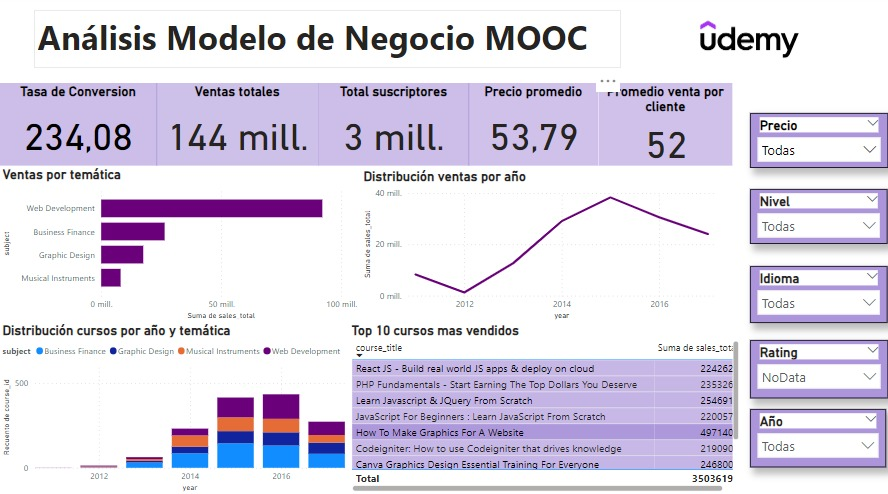

The page's visual inventory and layout, read from the dashboard file:
{"tool":"powerbi","page":{"name":"Analisis","canvas":[1280,720],"ordinal":1},"visuals":[{"type":"lineChart","title":"Distribución ventas por año","fields":{"Category":["udemy.year"],"Y":["Sum(udemy.sales_total)"]},"box":[520.5,248.8,518.9,222.6],"z":0},{"type":"slicer","fields":{"Values":["udemy.price"]},"box":[1081.4,169.9,198.7,79.2],"z":1000},{"type":"slicer","fields":{"Values":["udemy.level"]},"box":[1081.9,279.9,198.1,78.6],"z":2000},{"type":"slicer","fields":{"Values":["udemy.language"]},"box":[1081.9,389.6,198.1,81.8],"z":3000},{"type":"slicer","fields":{"Values":["udemy.rating"]},"box":[1081.4,496.8,198.7,83.5],"z":4000},{"type":"card","title":"Tasa de Conversion","fields":{"Values":["udemy.Conversion"]},"box":[0,126,227.5,119.5],"z":5000},{"type":"card","title":"Ventas totales","fields":{"Values":["Sum(udemy.sales_total)"]},"box":[225.9,126,234.1,119.5],"z":6000},{"type":"barChart","title":"Ventas por temática","fields":{"Category":["udemy.subject"],"Y":["Sum(udemy.sales_total)"]},"box":[0,245.5,520.5,225.9],"z":7000},{"type":"card","title":"Total suscriptores","fields":{"Values":["Sum(udemy.num_subscribers)"]},"box":[459.9,126,217.7,119.5],"z":8000},{"type":"card","title":"Precio promedio","fields":{"Values":["Avg(udemy.price)"]},"box":[676,126,188.2,119.5],"z":9000},{"type":"card","title":"Promedio venta por cliente","fields":{"Values":["udemy.venta_por_cliente"]},"box":[864.2,126,191.5,119.5],"z":10000},{"type":"image","box":[881.3,0,398.9,126.7],"z":11000},{"type":"columnChart","title":"Distribución cursos por año y temática","fields":{"Category":["udemy.year"],"Y":["Count(udemy.course_id)"],"Series":["udemy.subject"]},"box":[0,471.4,502.5,248.8],"z":12000},{"type":"tableEx","title":"Top 10 cursos mas vendidos","fields":{"Values":["udemy.course_title","Sum(udemy.sales_total)"]},"box":[502.5,471.4,568,248.8],"z":13000},{"type":"slicer","fields":{"Values":["udemy.year"]},"box":[1081.4,596.2,195.8,83.5],"z":14000},{"type":"textbox","box":[50.7,21.3,844.6,83.5],"z":15000}]}

Visuals, with their boxes in screenshot pixels (x1, y1, x2, y2), scaled from the page's 1280x720 canvas onto the 888x494 screenshot:
"Distribución ventas por año" lineChart: rect(361, 171, 721, 323)
slicer - udemy.price: rect(750, 117, 887, 171)
slicer - udemy.level: rect(751, 192, 887, 246)
slicer - udemy.language: rect(751, 267, 887, 323)
slicer - udemy.rating: rect(750, 341, 887, 398)
"Tasa de Conversion" card: rect(0, 86, 158, 168)
"Ventas totales" card: rect(157, 86, 319, 168)
"Ventas por temática" barChart: rect(0, 168, 361, 323)
"Total suscriptores" card: rect(319, 86, 470, 168)
"Precio promedio" card: rect(469, 86, 600, 168)
"Promedio venta por cliente" card: rect(600, 86, 732, 168)
image: rect(611, 0, 887, 87)
"Distribución cursos por año y temática" columnChart: rect(0, 323, 349, 493)
"Top 10 cursos mas vendidos" tableEx: rect(349, 323, 743, 493)
slicer - udemy.year: rect(750, 409, 886, 466)
textbox: rect(35, 15, 621, 72)
